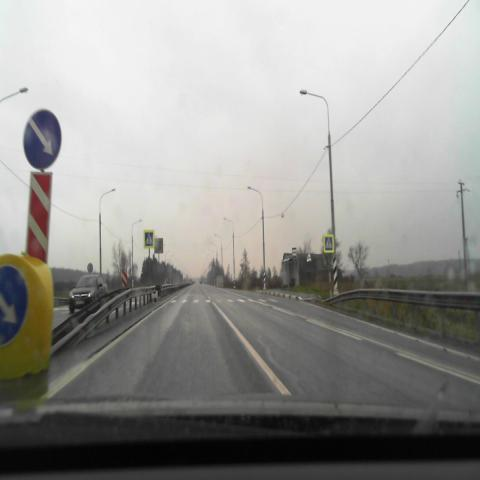4_2_1: (23, 110, 61, 169)
5_19_1: (144, 230, 154, 248), (324, 235, 333, 253)
